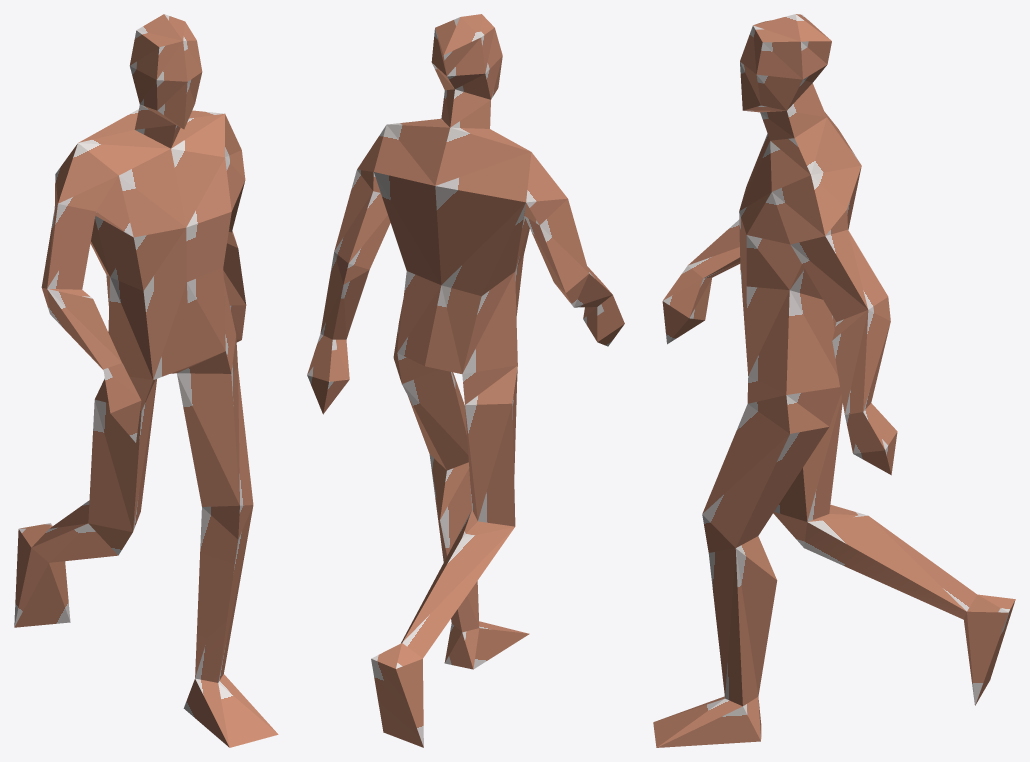
3 renders of one model, left to right at view 1: azimuth 30°, elevation 25°; view 2: azimuth 150°, elevation 25°; view 3: azimuth 270°, elevation 25°, orthographic. The views are drawn at different scales.
Visible parts, largest first — view 1: Default; view 2: Default; view 3: Default.
Boxes of the visible parts, x1=… form: Default: x1=14, y1=14, x2=278, y2=747; Default: x1=307, y1=14, x2=624, y2=747; Default: x1=653, y1=14, x2=1015, y2=747.
Size of the model in its own units: 0.791 by 2.16 by 0.9998.
